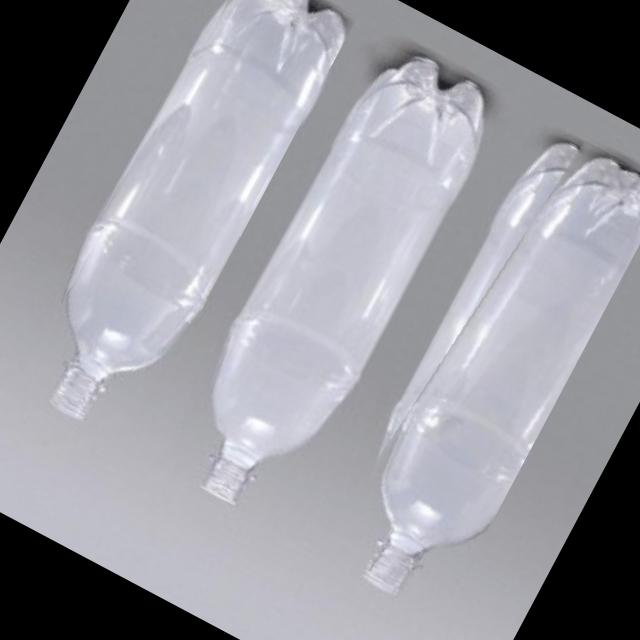plastic bottle: (155, 34, 509, 529), (315, 120, 640, 618), (15, 0, 356, 444)
